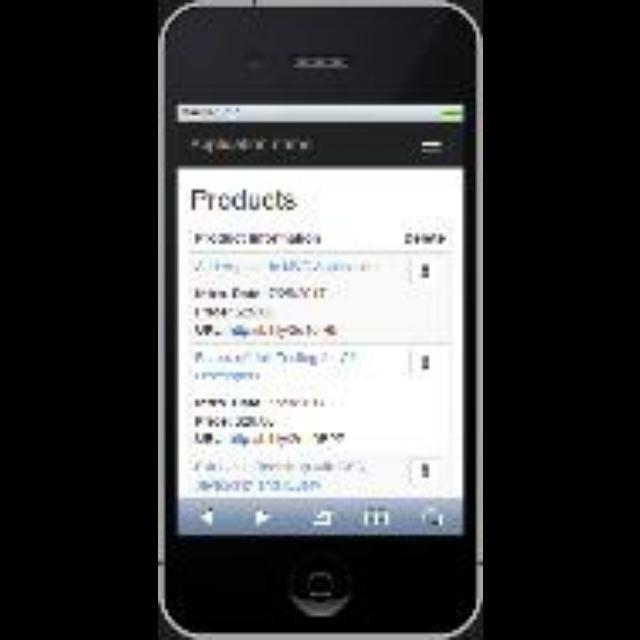phone: (164, 0, 503, 615)
